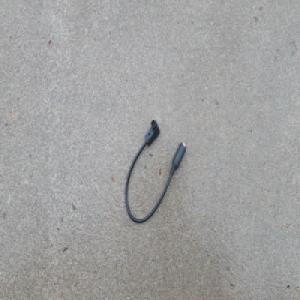Wire: (124, 119, 186, 224)
